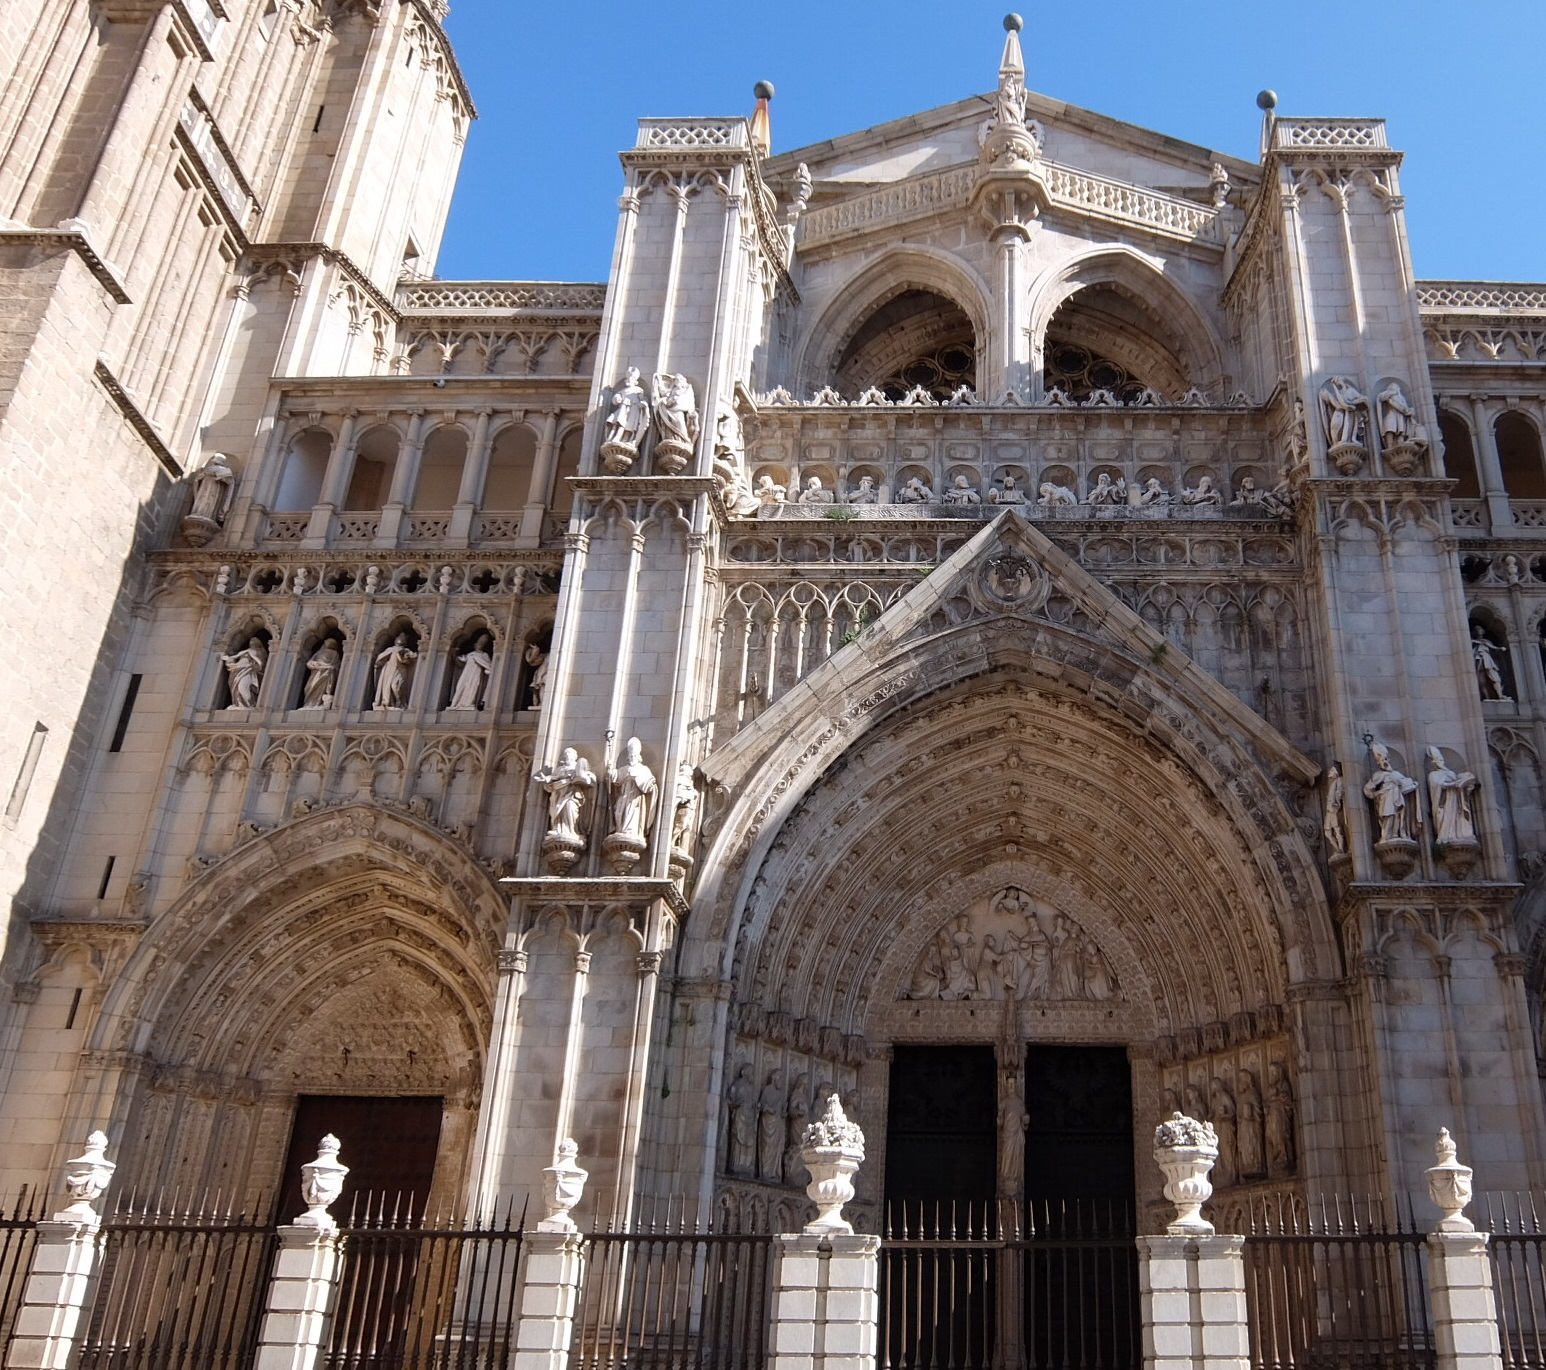arco-apuntado: (686, 612, 1338, 981), (167, 842, 496, 1084)
